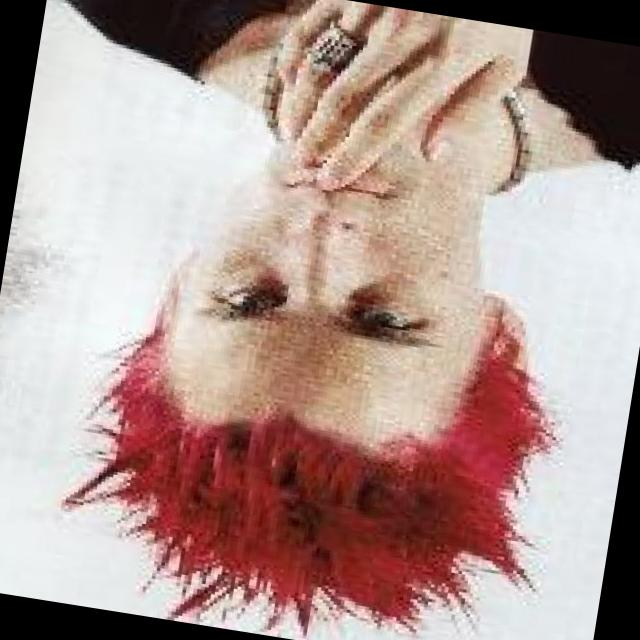bareface: (129, 80, 548, 610)
